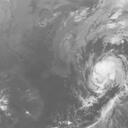cyclone: (83, 51, 126, 106)
